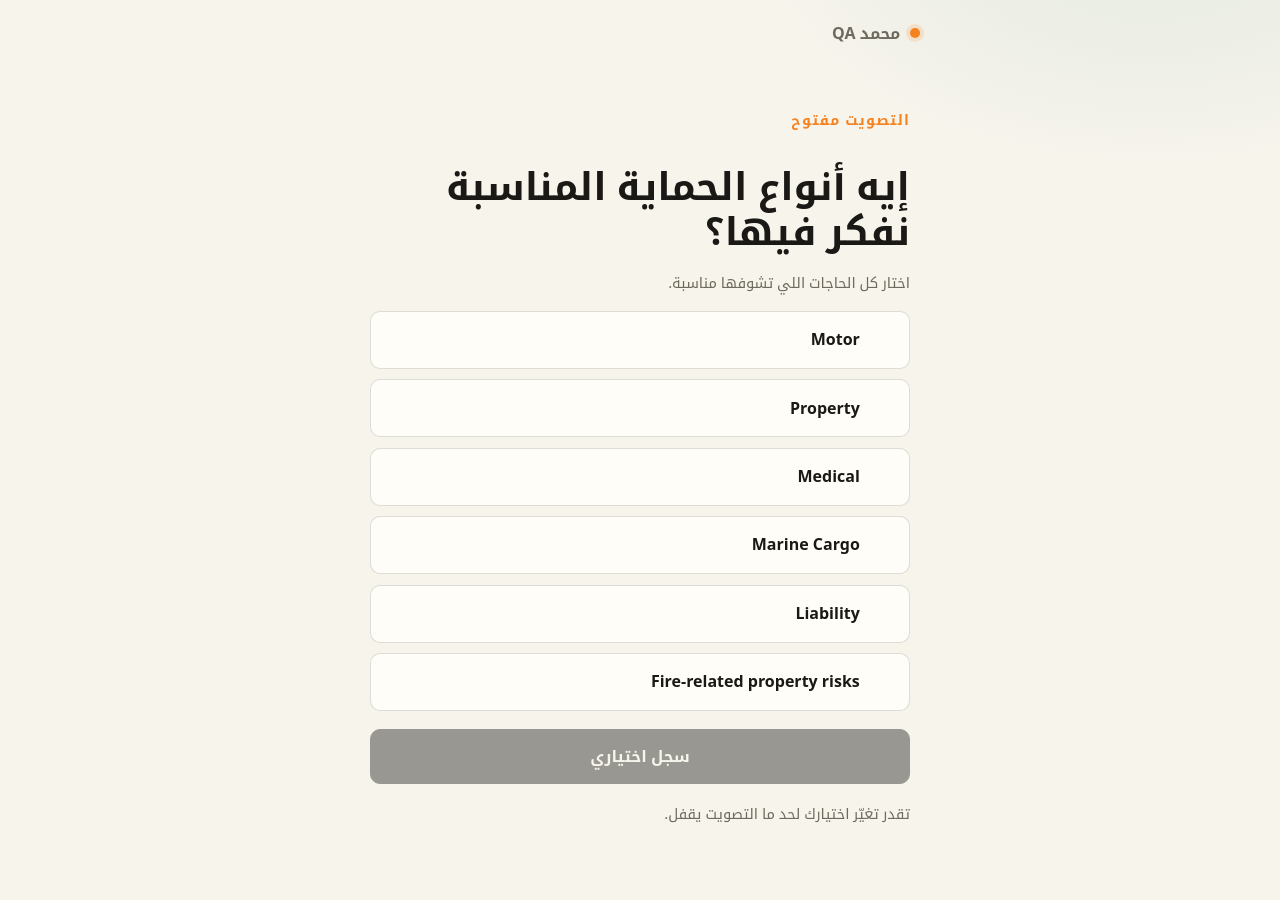
route smoke (local rehearsal mode) › confirms submitted multi-select votes on the audience phone
Click the button "Motor" at (835, 339), box [370,311,910,369]
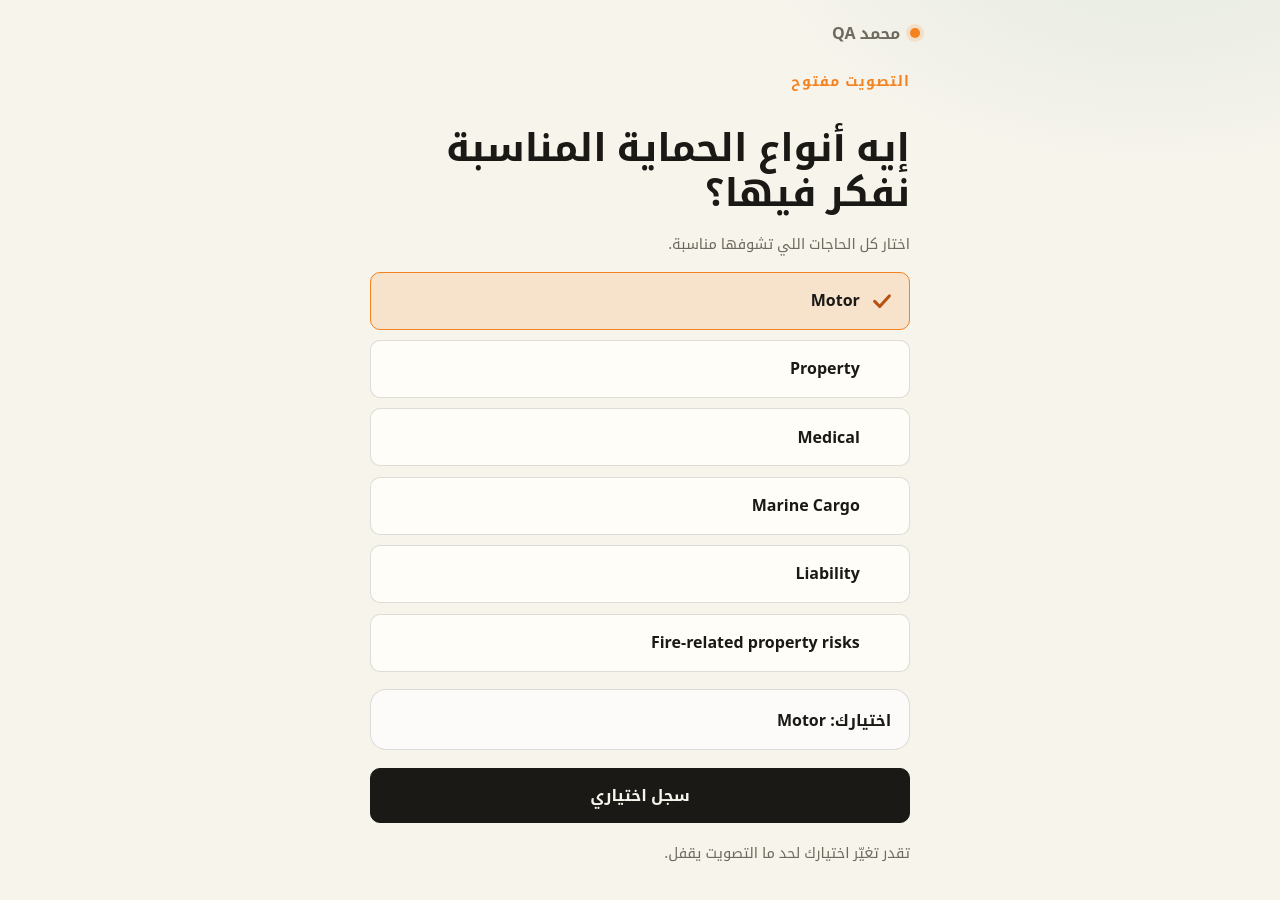
Click the button "Property" at (825, 368), box [370,340,910,398]
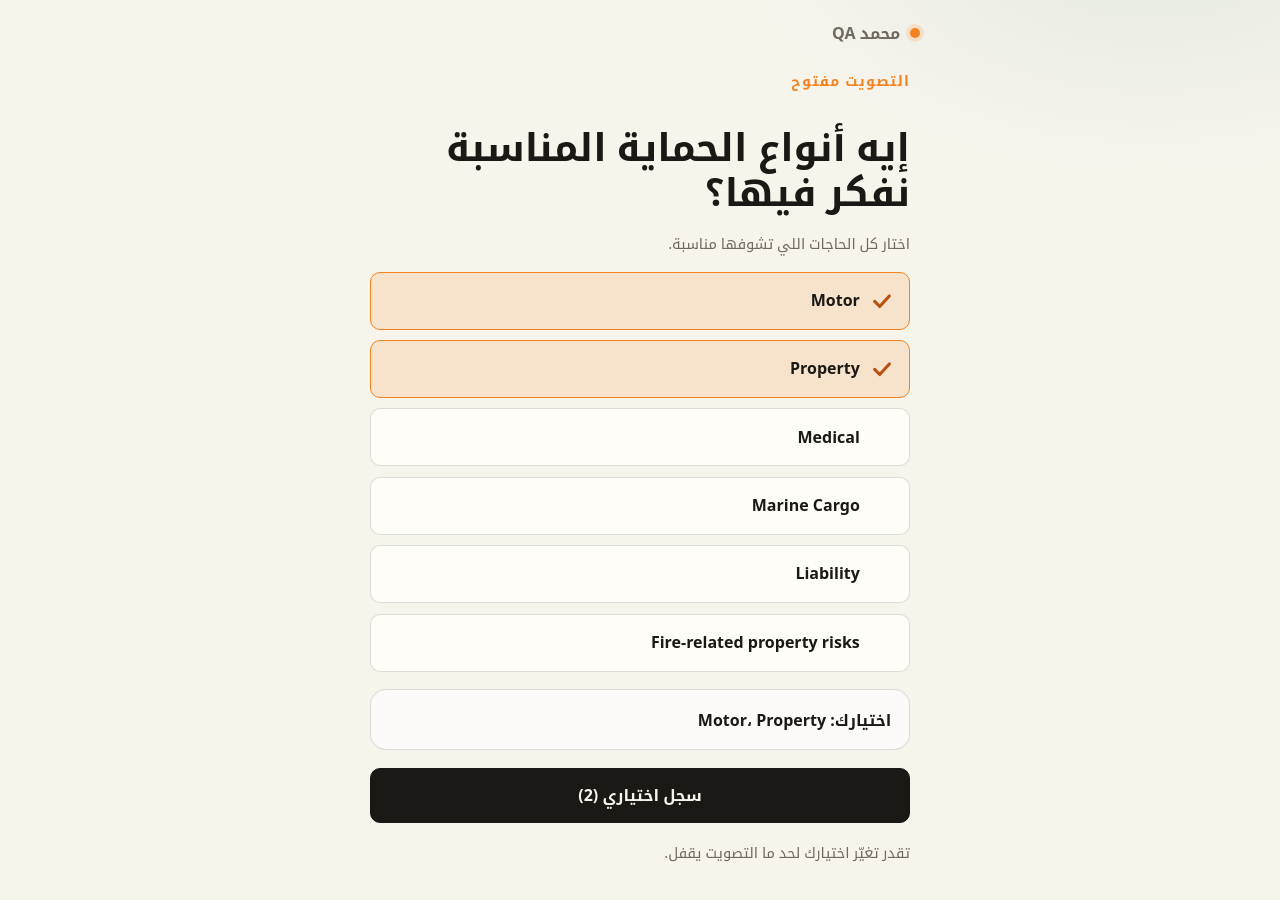
Click the button "سجل اختياري (2)" at (640, 796), box [370,768,910,823]
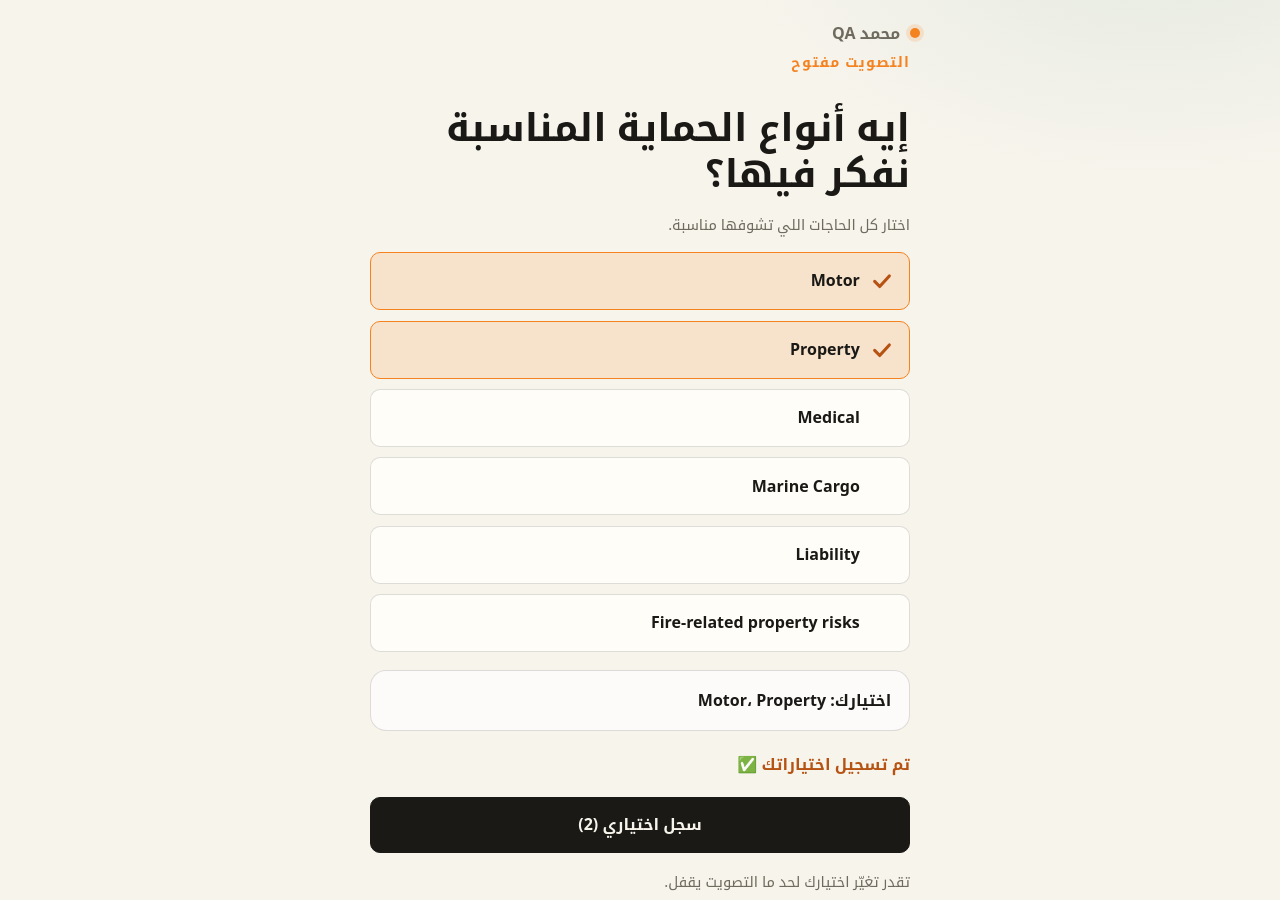
Check: the text "تم تسجيل اختياراتك ✅" is shown, box [737,753,910,775]
